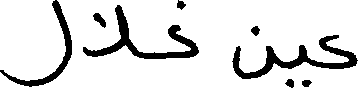ع: (319, 32, 356, 69)
غ: (167, 0, 197, 59)
ل: (0, 0, 73, 86)
لا: (84, 3, 128, 58)
ن: (232, 23, 273, 79)
ي: (286, 42, 313, 87)
